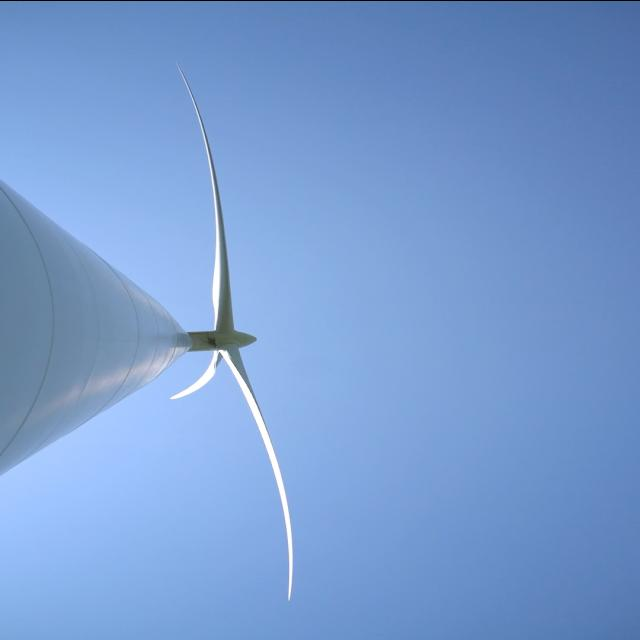blade 1: (173, 82, 251, 316)
blade 2: (163, 360, 224, 448)
blade 3: (241, 372, 316, 600)
